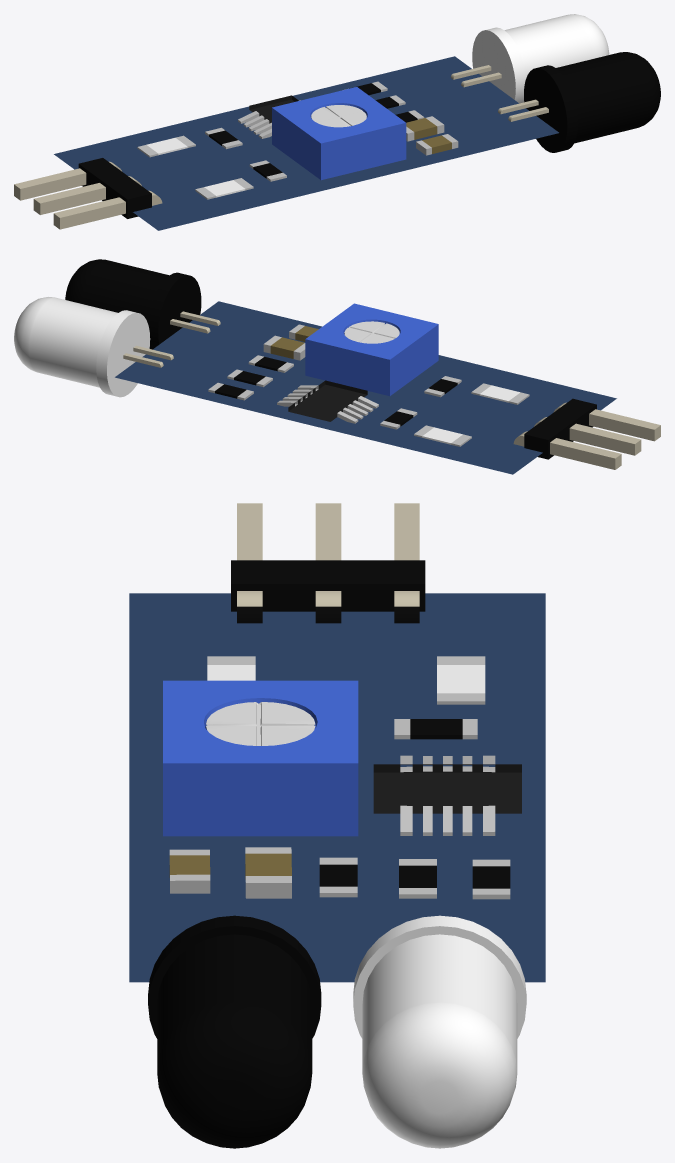
The model's file is ir-obstaculo.glb.
3 views of the same model, one above another, from view 1: azimuth 30°, elevation 25°; view 2: azimuth 150°, elevation 25°; view 3: azimuth 270°, elevation 25° (orthographic). The views are drawn at different scales.
Visible parts, largest first — view 1: IR sensor_DARKBLUEPCB_0, IR sensor_metallicBlack_0, IR sensor_RoyalBluePlastic_0, IR sensor_Material_0, IR sensor_Metallic_0, IR sensor_BlackPlastic_0, IR sensor_silverContacts_0, IR sensor_glossmetal_0, IR sensor_WhitePlastic_0, IR sensor_LedSMDBLUE_0, IR sensor_BrownEpoxy_0, IR sensor_icEpoxy_0; view 2: IR sensor_DARKBLUEPCB_0, IR sensor_Material_0, IR sensor_RoyalBluePlastic_0, IR sensor_metallicBlack_0, IR sensor_Metallic_0, IR sensor_BlackPlastic_0, IR sensor_silverContacts_0, IR sensor_icEpoxy_0, IR sensor_glossmetal_0, IR sensor_WhitePlastic_0, IR sensor_LedSMDBLUE_0, IR sensor_BrownEpoxy_0; view 3: IR sensor_DARKBLUEPCB_0, IR sensor_Material_0, IR sensor_metallicBlack_0, IR sensor_RoyalBluePlastic_0, IR sensor_BlackPlastic_0, IR sensor_silverContacts_0, IR sensor_icEpoxy_0, IR sensor_Metallic_0, IR sensor_WhitePlastic_0, IR sensor_LedSMDBLUE_0, IR sensor_BrownEpoxy_0.
Part boxes in pixels (bbox=[...]): IR sensor_DARKBLUEPCB_0: bbox=[54, 56, 558, 230]; IR sensor_metallicBlack_0: bbox=[524, 52, 660, 152]; IR sensor_RoyalBluePlastic_0: bbox=[272, 87, 406, 180]; IR sensor_Material_0: bbox=[472, 14, 609, 103]; IR sensor_Metallic_0: bbox=[14, 161, 162, 229]; IR sensor_BlackPlastic_0: bbox=[78, 83, 417, 218]; IR sensor_silverContacts_0: bbox=[137, 81, 458, 199]; IR sensor_glossmetal_0: bbox=[450, 65, 548, 121]; IR sensor_WhitePlastic_0: bbox=[311, 105, 366, 127]; IR sensor_LedSMDBLUE_0: bbox=[146, 137, 245, 197]; IR sensor_BrownEpoxy_0: bbox=[406, 118, 451, 153]; IR sensor_icEpoxy_0: bbox=[249, 95, 298, 123]; IR sensor_DARKBLUEPCB_0: bbox=[115, 301, 616, 474]; IR sensor_Material_0: bbox=[14, 297, 150, 397]; IR sensor_RoyalBluePlastic_0: bbox=[305, 303, 438, 396]; IR sensor_metallicBlack_0: bbox=[65, 259, 201, 349]; IR sensor_Metallic_0: bbox=[513, 402, 660, 469]; IR sensor_BlackPlastic_0: bbox=[215, 356, 596, 459]; IR sensor_silverContacts_0: bbox=[208, 324, 529, 446]; IR sensor_icEpoxy_0: bbox=[288, 380, 367, 421]; IR sensor_glossmetal_0: bbox=[123, 311, 220, 367]; IR sensor_WhitePlastic_0: bbox=[344, 321, 399, 343]; IR sensor_LedSMDBLUE_0: bbox=[422, 385, 519, 444]; IR sensor_BrownEpoxy_0: bbox=[270, 326, 318, 358]; IR sensor_DARKBLUEPCB_0: bbox=[129, 593, 545, 982]; IR sensor_Material_0: bbox=[353, 915, 526, 1148]; IR sensor_metallicBlack_0: bbox=[148, 915, 321, 1148]; IR sensor_RoyalBluePlastic_0: bbox=[163, 680, 358, 836]; IR sensor_BlackPlastic_0: bbox=[231, 560, 510, 888]; IR sensor_silverContacts_0: bbox=[169, 656, 510, 899]; IR sensor_icEpoxy_0: bbox=[373, 764, 521, 813]; IR sensor_Metallic_0: bbox=[237, 503, 419, 606]; IR sensor_WhitePlastic_0: bbox=[206, 702, 315, 745]; IR sensor_LedSMDBLUE_0: bbox=[207, 665, 485, 693]; IR sensor_BrownEpoxy_0: bbox=[169, 853, 291, 879].
Size of the model in its own units: 0.0311 by 0.00397 by 0.00954.
